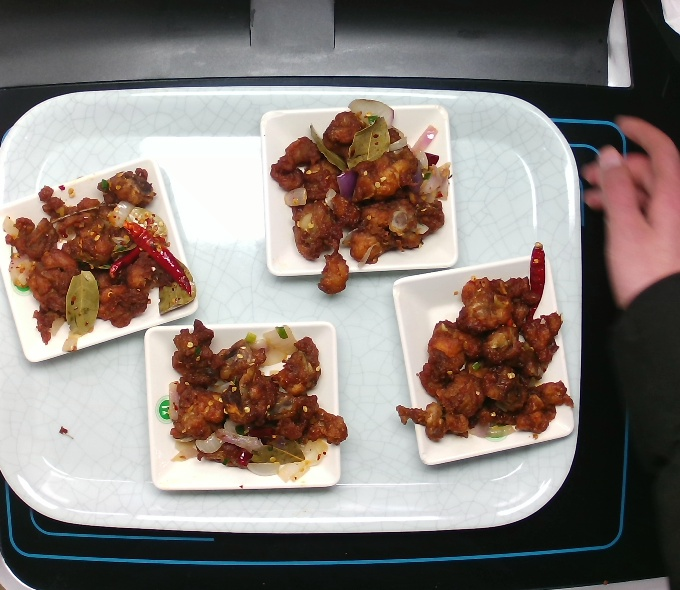wcq-LaZiJiKuai: (390, 240, 575, 444), (270, 95, 454, 298), (3, 165, 198, 350), (164, 316, 351, 479)
